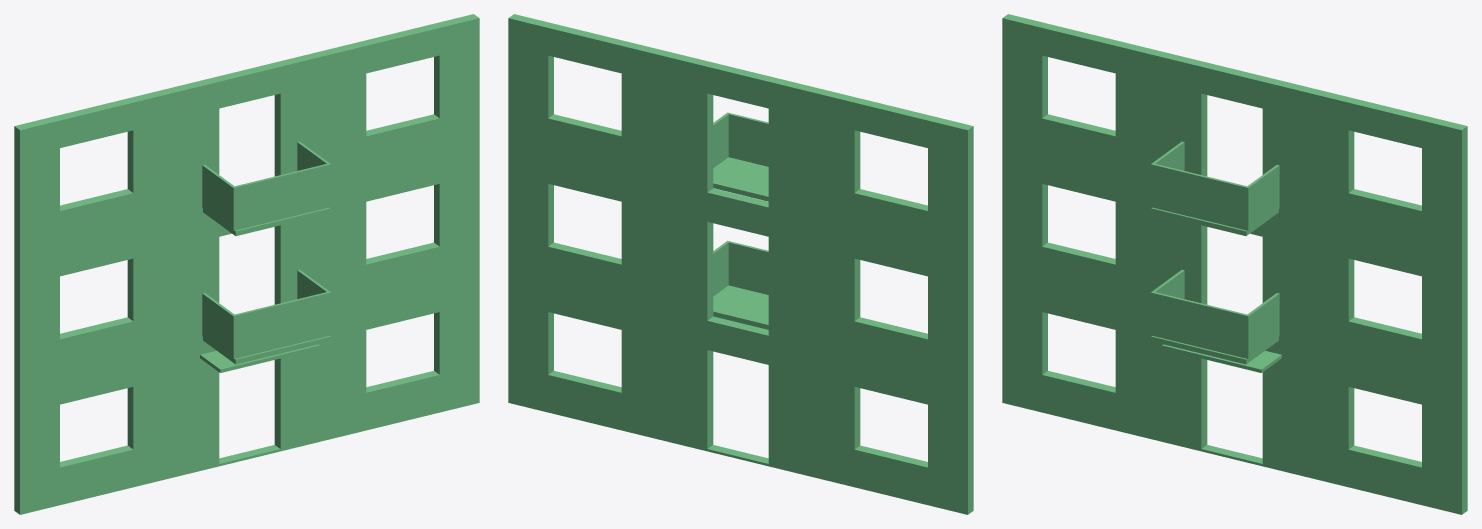
Rendered from PROJECT_Z_Apartment_Facade_Collision_Proxies.glb.
The picture shows the model from 3 angles, left to right: view 1: azimuth 30°, elevation 25°; view 2: azimuth 150°, elevation 25°; view 3: azimuth 330°, elevation 25°; orthographic projection.
Parts seen in each view (by area): view 1: UCX_F03_B01_WALL_LEFT, UCX_F01_B01_WALL_LEFT, UCX_F02_B01_WALL_LEFT, UCX_F03_B01_WALL_RIGHT, UCX_F03_B03_WALL_RIGHT, UCX_F01_B02_WALL_LEFT, UCX_F01_B01_WALL_RIGHT, UCX_F02_B01_WALL_RIGHT, UCX_F03_B02_WALL_LEFT, UCX_F01_B03_WALL_RIGHT, UCX_F02_B03_WALL_RIGHT, UCX_F03_B03_WALL_LEFT (+28 smaller); view 2: UCX_F03_B02_WALL_RIGHT, UCX_F01_B02_WALL_RIGHT, UCX_F02_B02_WALL_RIGHT, UCX_F03_B02_WALL_LEFT, UCX_F03_B01_WALL_LEFT, UCX_F02_B02_WALL_LEFT, UCX_F01_B02_WALL_LEFT, UCX_F01_B01_WALL_LEFT, UCX_F02_B01_WALL_LEFT, UCX_F03_B01_WALL_RIGHT, UCX_F03_B03_WALL_RIGHT, UCX_F01_B01_WALL_RIGHT (+27 smaller); view 3: UCX_F03_B03_WALL_RIGHT, UCX_F01_B03_WALL_RIGHT, UCX_F02_B03_WALL_RIGHT, UCX_F03_B03_WALL_LEFT, UCX_F03_B01_WALL_LEFT, UCX_F01_B02_WALL_RIGHT, UCX_F01_B03_WALL_LEFT, UCX_F02_B03_WALL_LEFT, UCX_F03_B02_WALL_RIGHT, UCX_F01_B01_WALL_LEFT, UCX_F02_B01_WALL_LEFT, UCX_F03_B01_WALL_RIGHT (+28 smaller).
Part boxes in pixels (x1,y1,x2,y2): UCX_F03_B01_WALL_LEFT: (14,116,59,258); UCX_F01_B01_WALL_LEFT: (14,377,59,514); UCX_F02_B01_WALL_LEFT: (14,249,59,386); UCX_F03_B01_WALL_RIGHT: (127,89,173,230); UCX_F03_B03_WALL_RIGHT: (434,14,479,155); UCX_F01_B02_WALL_LEFT: (173,342,219,477); UCX_F01_B01_WALL_RIGHT: (127,349,173,487); UCX_F02_B01_WALL_RIGHT: (127,221,173,358); UCX_F03_B02_WALL_LEFT: (168,77,219,220); UCX_F01_B03_WALL_RIGHT: (434,274,479,412); UCX_F02_B03_WALL_RIGHT: (434,146,479,284); UCX_F03_B03_WALL_LEFT: (321,41,366,182); UCX_F03_B02_WALL_RIGHT: (661,51,713,194); UCX_F01_B02_WALL_RIGHT: (661,312,713,451); UCX_F02_B02_WALL_RIGHT: (661,184,713,322); UCX_F03_B02_WALL_LEFT: (768,77,819,220); UCX_F03_B01_WALL_LEFT: (928,116,973,258); UCX_F02_B02_WALL_LEFT: (768,210,814,349); UCX_F01_B02_WALL_LEFT: (768,338,814,477); UCX_F01_B01_WALL_LEFT: (928,377,973,514); UCX_F02_B01_WALL_LEFT: (928,249,973,386); UCX_F03_B01_WALL_RIGHT: (814,89,860,230); UCX_F03_B03_WALL_RIGHT: (508,14,553,155); UCX_F01_B01_WALL_RIGHT: (814,349,860,487); UCX_F03_B03_WALL_RIGHT: (1422,116,1467,258); UCX_F01_B03_WALL_RIGHT: (1422,377,1467,514); UCX_F02_B03_WALL_RIGHT: (1422,249,1467,386); UCX_F03_B03_WALL_LEFT: (1308,89,1354,230); UCX_F03_B01_WALL_LEFT: (1002,14,1047,155); UCX_F01_B02_WALL_RIGHT: (1262,342,1308,477); UCX_F01_B03_WALL_LEFT: (1308,349,1354,487); UCX_F02_B03_WALL_LEFT: (1308,221,1354,358); UCX_F03_B02_WALL_RIGHT: (1262,77,1313,220); UCX_F01_B01_WALL_LEFT: (1002,274,1047,412); UCX_F02_B01_WALL_LEFT: (1002,146,1047,284); UCX_F03_B01_WALL_RIGHT: (1115,41,1160,182).
Size of the model in its own units: 12 by 9.6 by 1.77.
